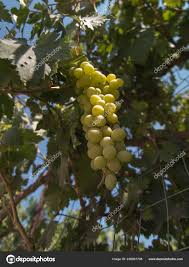grapes: (74, 59, 136, 196)
